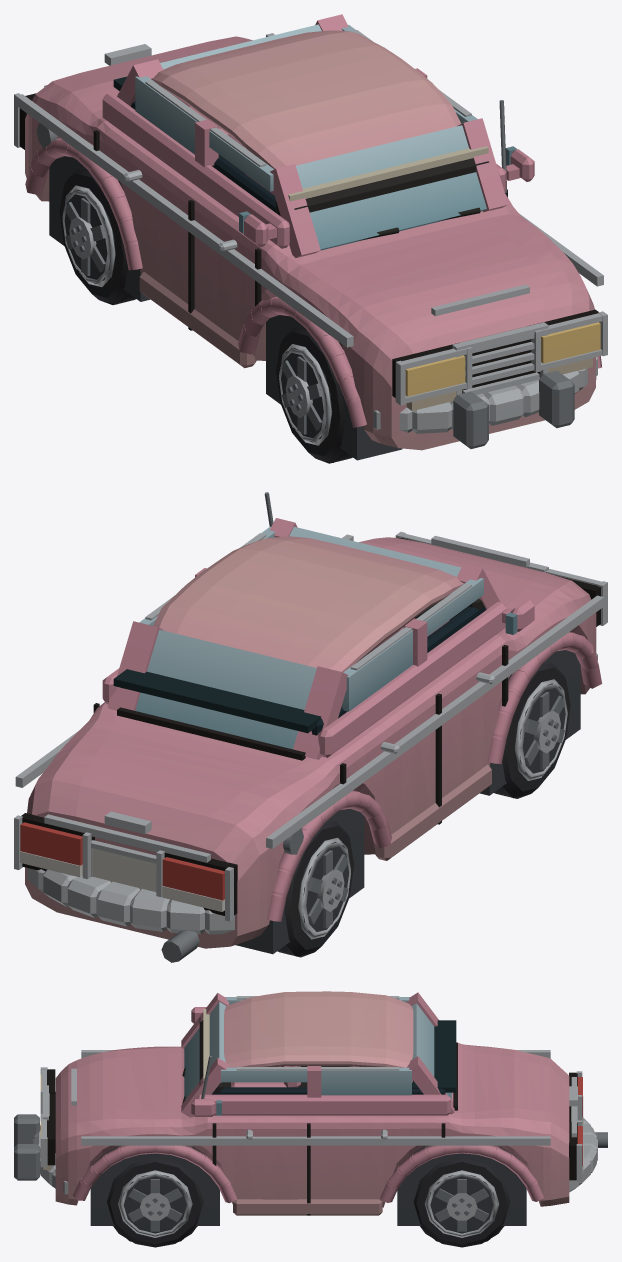
Rendered from pastel-sedan.glb.
3 views of the same model, one above another, from view 1: azimuth 30°, elevation 25°; view 2: azimuth 150°, elevation 25°; view 3: azimuth 270°, elevation 25° (orthographic). The views are drawn at different scales.
Parts seen in each view (by area): view 1: pastel_sedan; view 2: pastel_sedan; view 3: pastel_sedan.
Part boxes in pixels (box(x1,y1,x2,y2)): pastel_sedan: box(14, 14, 607, 463); pastel_sedan: box(14, 492, 607, 962); pastel_sedan: box(14, 991, 607, 1247).
Bounding box in the file's own units: 1.11 × 1.05 × 2.89.
